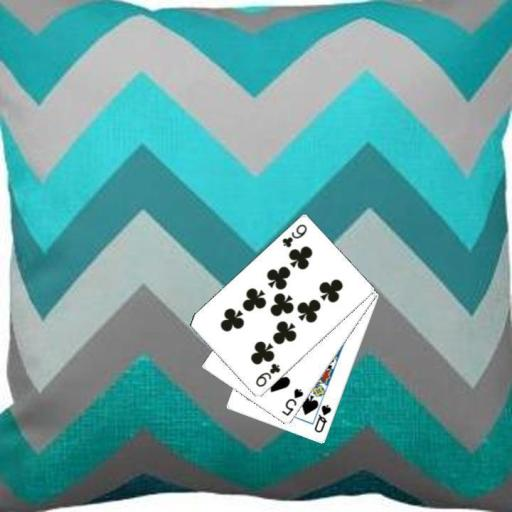card-corner: (278, 221, 308, 250), (252, 361, 282, 389), (279, 386, 305, 418), (311, 402, 333, 434)
